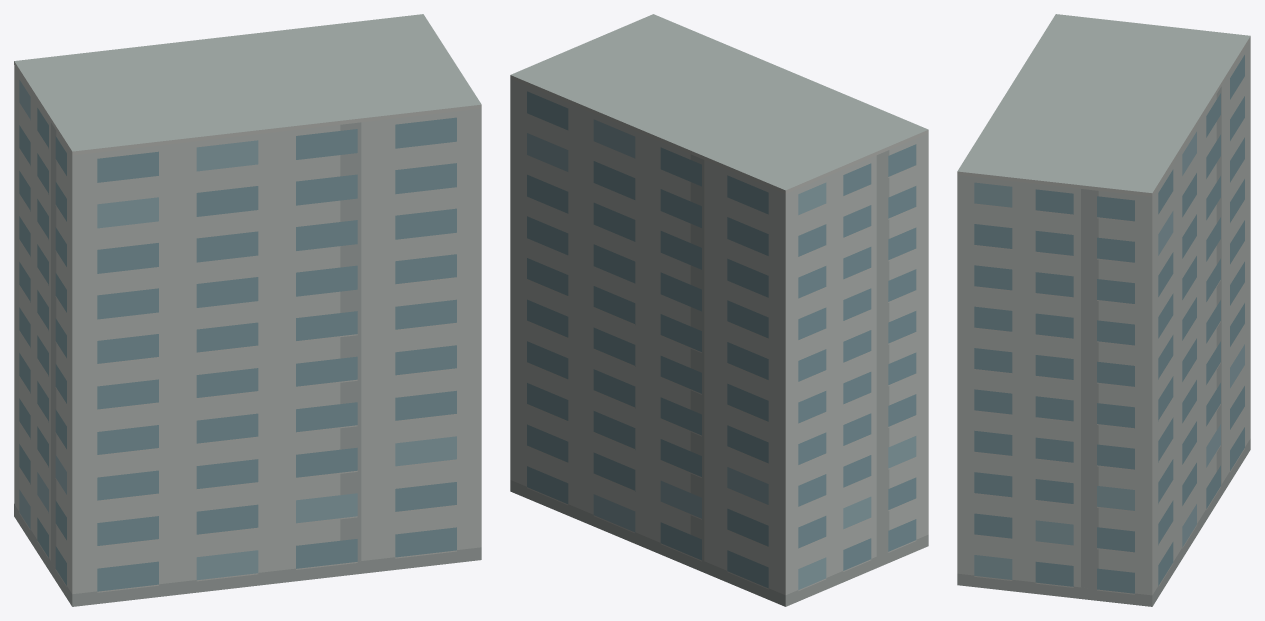
Rendered from residential-769efcf6-c67a-4646-9cd7-bbf55bd56b2c.glb.
The picture shows the model from 3 angles, left to right: view 1: azimuth 30°, elevation 25°; view 2: azimuth 150°, elevation 25°; view 3: azimuth 270°, elevation 25°; orthographic projection. The views are drawn at different scales.
Visible parts, largest first — view 1: residential-769efcf6-c67a-4646-9cd7-bbf55bd56b2c.tmp; view 2: residential-769efcf6-c67a-4646-9cd7-bbf55bd56b2c.tmp; view 3: residential-769efcf6-c67a-4646-9cd7-bbf55bd56b2c.tmp.
Part boxes in pixels (left/top/right/bottom): residential-769efcf6-c67a-4646-9cd7-bbf55bd56b2c.tmp: left=14, top=14, right=481, bottom=606; residential-769efcf6-c67a-4646-9cd7-bbf55bd56b2c.tmp: left=510, top=14, right=928, bottom=606; residential-769efcf6-c67a-4646-9cd7-bbf55bd56b2c.tmp: left=957, top=14, right=1250, bottom=606.
Bounding box in the file's own units: 26.02 × 28 × 18.01.
